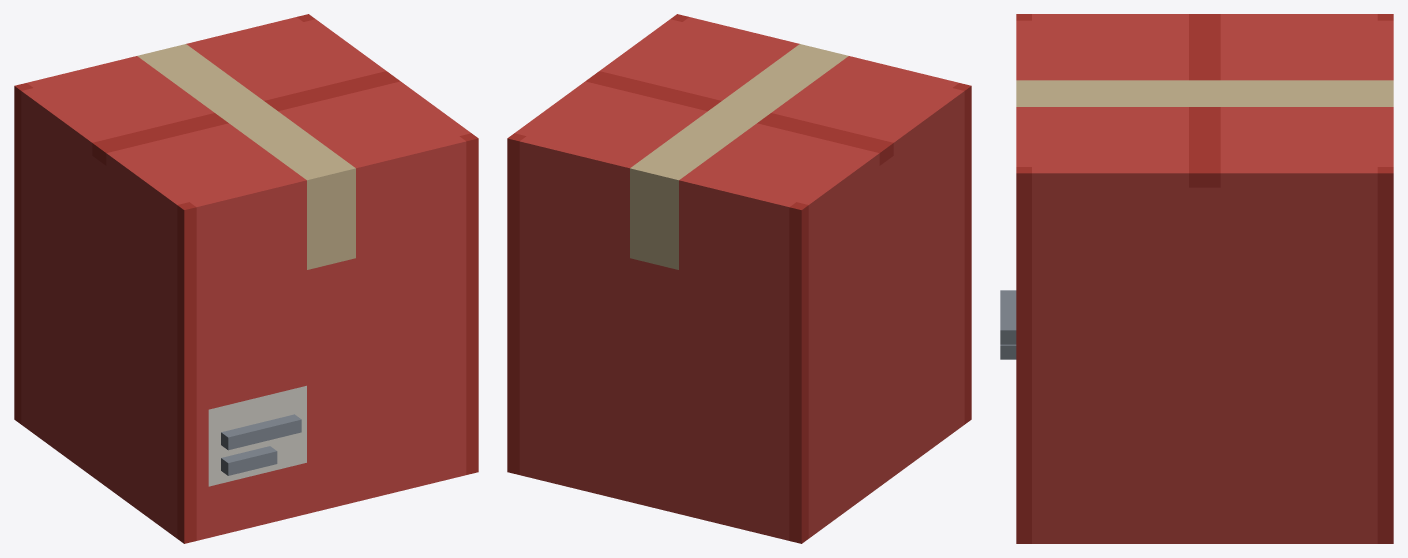
Rendered from package-red.glb.
3 renders of one model, left to right at view 1: azimuth 30°, elevation 25°; view 2: azimuth 150°, elevation 25°; view 3: azimuth 270°, elevation 25°, orthographic. The views are drawn at different scales.
Visible parts, largest first — view 1: prop; view 2: prop; view 3: prop.
Boxes of the visible parts, x1,y1,x2,y2 form: prop: [14, 14, 478, 543]; prop: [507, 14, 971, 543]; prop: [1000, 14, 1393, 543].
Size of the model in its own units: 14.77 by 16 by 15.38.
